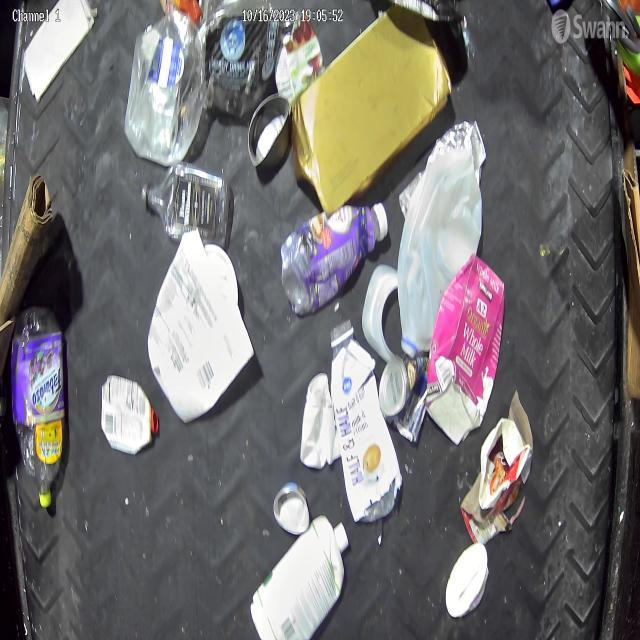can: (274, 8, 324, 104), (248, 94, 291, 170), (379, 358, 426, 416), (272, 482, 310, 535)
milk_jug: (148, 228, 254, 421), (399, 148, 483, 358), (101, 376, 158, 454)
non_white_jug: (424, 253, 506, 444)
plastic_bottle: (13, 308, 65, 508), (142, 159, 232, 244)
